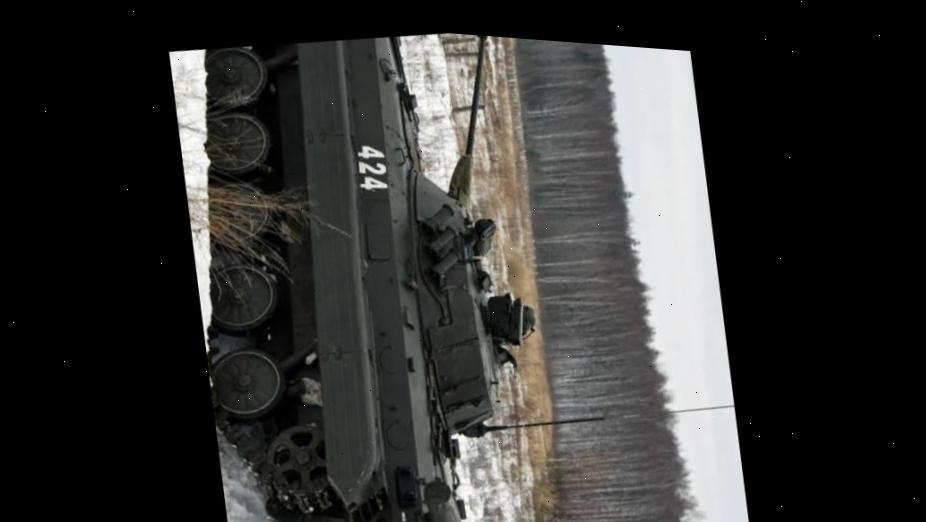tank: (160, 12, 572, 522)
